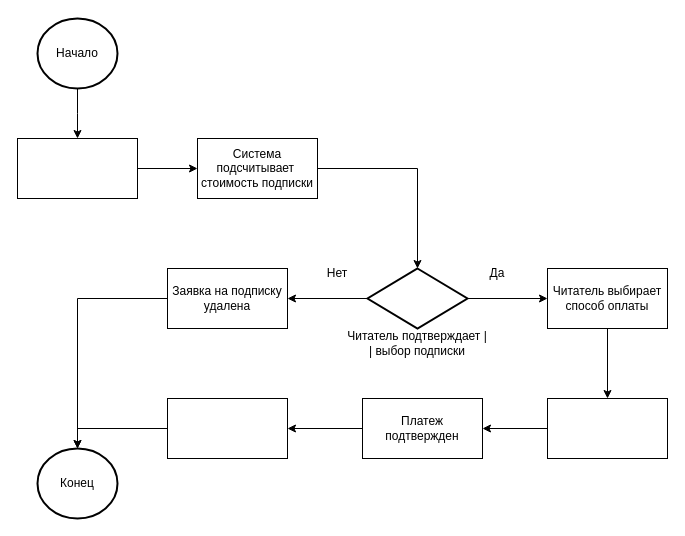
This 685x536 diagram has some shape labels left out. Each missing label, with the centre of its shape:
"Регистрация подписки" belongs at (227,428).
"Система инициирует платеж" belongs at (607,428).
"Читатель выбирает периодическое издание" belongs at (77,168).
